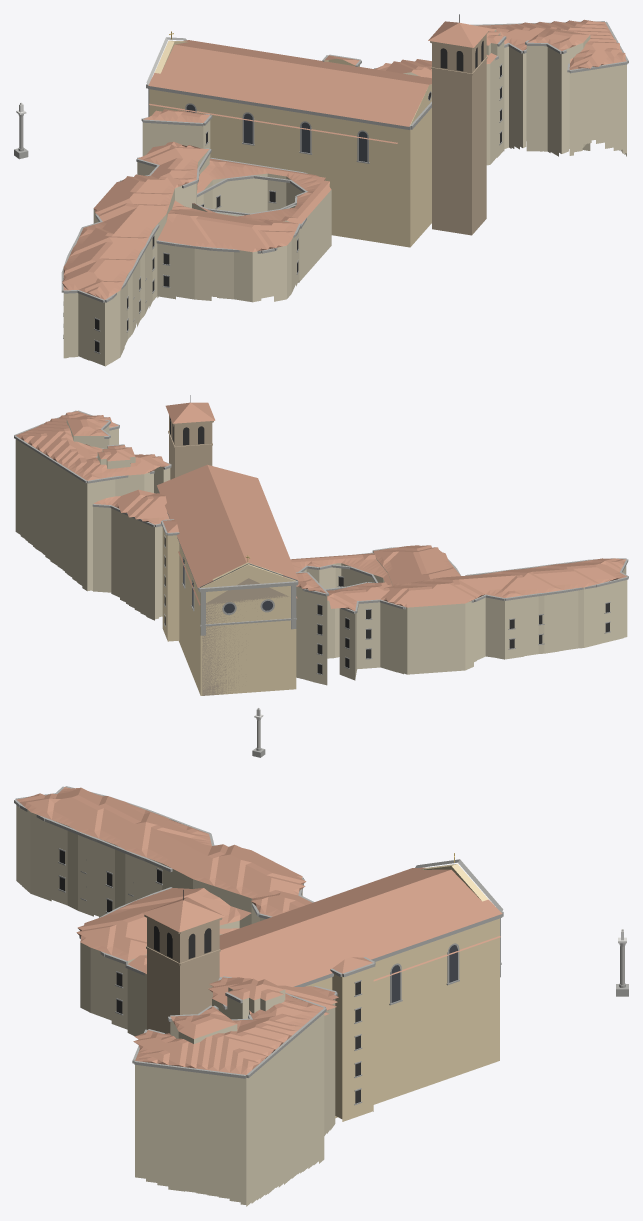
Rendered from felicita.glb.
3 renders of one model, top to bottom at view 1: azimuth 30°, elevation 25°; view 2: azimuth 150°, elevation 25°; view 3: azimuth 270°, elevation 25°, orthographic. The views are drawn at different scales.
Parts seen in each view (by area): view 1: monastero@1300-99999.conv, chiesa@1739-99999.plaster, monastero@1300-99999.roof_m, chiesa@1739-99999.roof, canonica@1300-99999.conv, campanile@1300-99999.forte, canonica@1300-99999.roof_m, monastero@1300-99999.serena, chiesa@1739-99999.serena, campanile@1300-99999.roof, chiesa@1739-99999.glass, canonica@1300-99999.serena (+2 smaller); view 2: monastero@1300-99999.conv, canonica@1300-99999.conv, chiesa@1739-99999.plaster, monastero@1300-99999.roof_m, chiesa@1739-99999.roof, canonica@1300-99999.roof_m, chiesa_medievale@1000-1739.rough, monastero@1300-99999.serena, campanile@1300-99999.forte, cappelle@1739-99999.plaster, chiesa@1739-99999.serena, canonica@1300-99999.serena (+2 smaller); view 3: canonica@1300-99999.conv, chiesa@1739-99999.plaster, chiesa@1739-99999.roof, monastero@1300-99999.roof_m, monastero@1300-99999.conv, canonica@1300-99999.roof_m, campanile@1300-99999.forte, cappelle@1739-99999.plaster, monastero@1300-99999.serena, chiesa@1739-99999.serena, campanile@1300-99999.roof, canonica@1300-99999.serena (+2 smaller).
Part boxes in pixels (x1,y1,x2,y2): monastero@1300-99999.conv: (63,120,331,366); chiesa@1739-99999.plaster: (149,40,431,247); monastero@1300-99999.roof_m: (62,109,331,299); chiesa@1739-99999.roof: (148,40,431,126); canonica@1300-99999.conv: (403,29,626,165); campanile@1300-99999.forte: (430,31,488,235); canonica@1300-99999.roof_m: (375,19,626,78); monastero@1300-99999.serena: (61,114,307,353); chiesa@1739-99999.serena: (146,37,431,163); campanile@1300-99999.roof: (428,21,490,47); chiesa@1739-99999.glass: (186,104,367,161); canonica@1300-99999.serena: (374,21,628,145); monastero@1300-99999.conv: (296,552,627,685); canonica@1300-99999.conv: (15,419,170,620); chiesa@1739-99999.plaster: (179,543,296,695); monastero@1300-99999.roof_m: (290,545,626,610); chiesa@1739-99999.roof: (157,464,298,587); canonica@1300-99999.roof_m: (16,411,169,524); chiesa_medievale@1000-1739.rough: (202,578,288,695); monastero@1300-99999.serena: (296,547,628,675); campanile@1300-99999.forte: (168,415,213,479); cappelle@1739-99999.plaster: (162,528,179,641); chiesa@1739-99999.serena: (157,488,298,635); canonica@1300-99999.serena: (14,410,171,527); canonica@1300-99999.conv: (135,987,335,1206); chiesa@1739-99999.plaster: (306,864,499,1118); chiesa@1739-99999.roof: (219,867,502,986); monastero@1300-99999.roof_m: (16,787,312,973); monastero@1300-99999.conv: (16,805,302,1036); canonica@1300-99999.roof_m: (133,977,338,1074); campanile@1300-99999.forte: (144,915,222,1033); cappelle@1739-99999.plaster: (332,967,373,1121); monastero@1300-99999.serena: (14,786,314,1015); chiesa@1739-99999.serena: (294,859,503,1005); campanile@1300-99999.roof: (141,897,224,932); canonica@1300-99999.serena: (132,976,337,1078).
Bounding box in the file's own units: 108 × 35.16 × 76.28.
